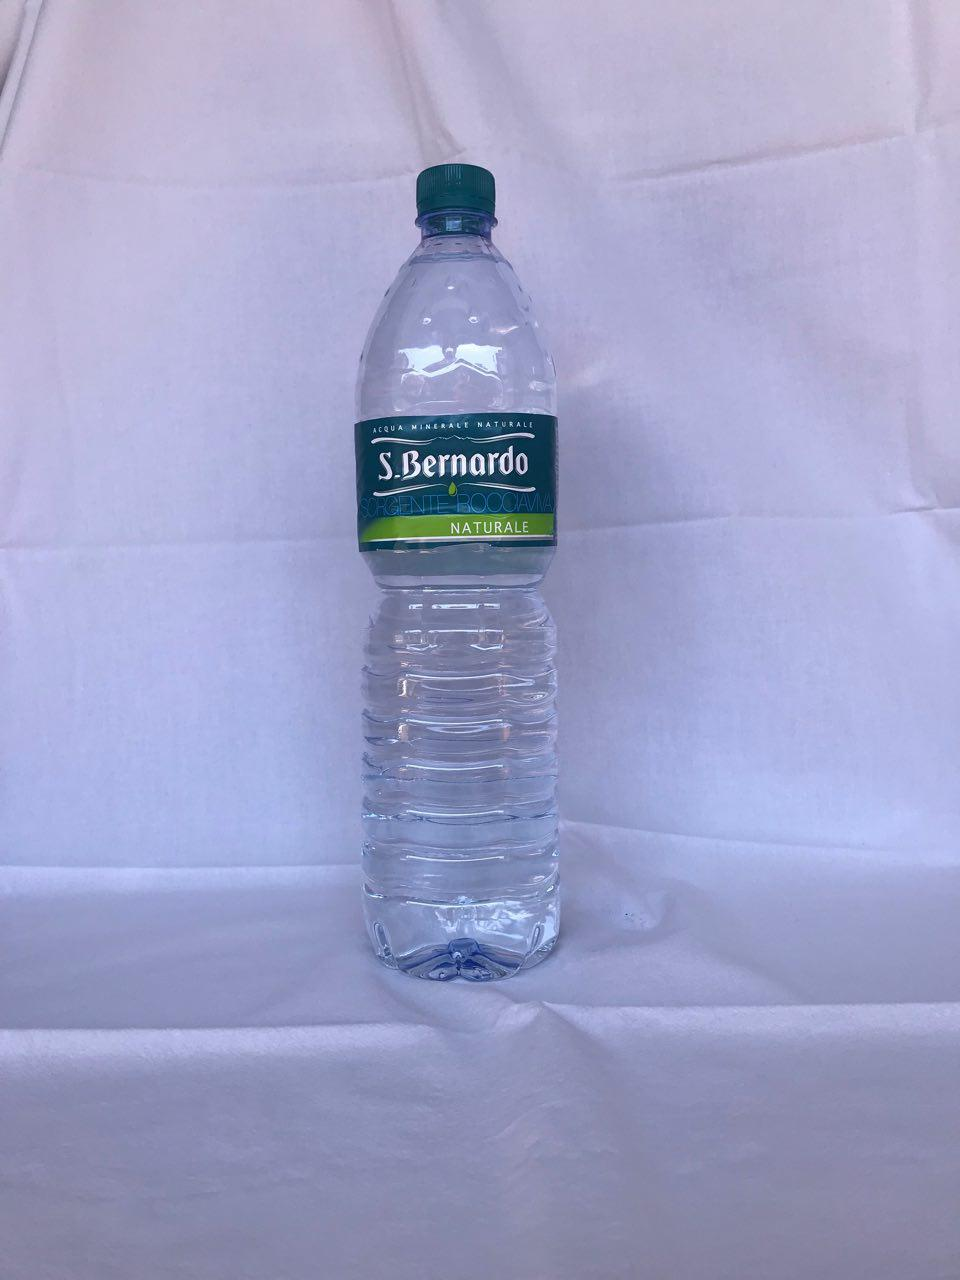san_bernardo: (350, 160, 564, 985)
